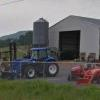Tractor: (6, 38, 69, 81)
